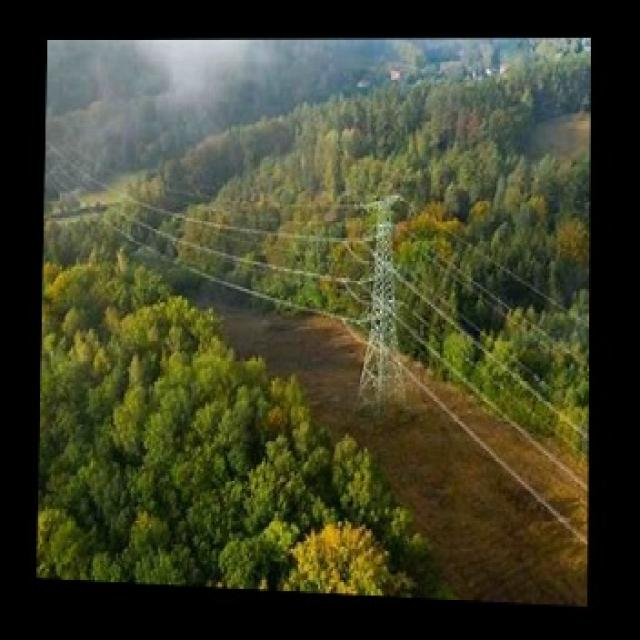utility poles: (343, 162, 432, 406)
